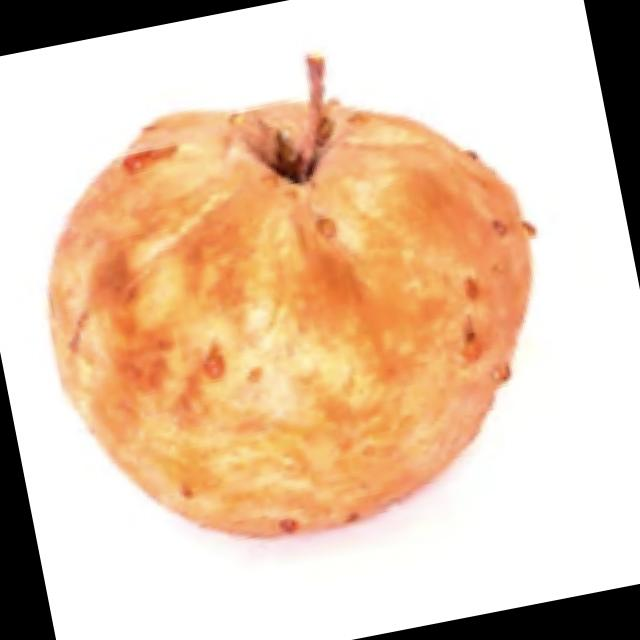rotten_apple: (8, 32, 579, 572)
